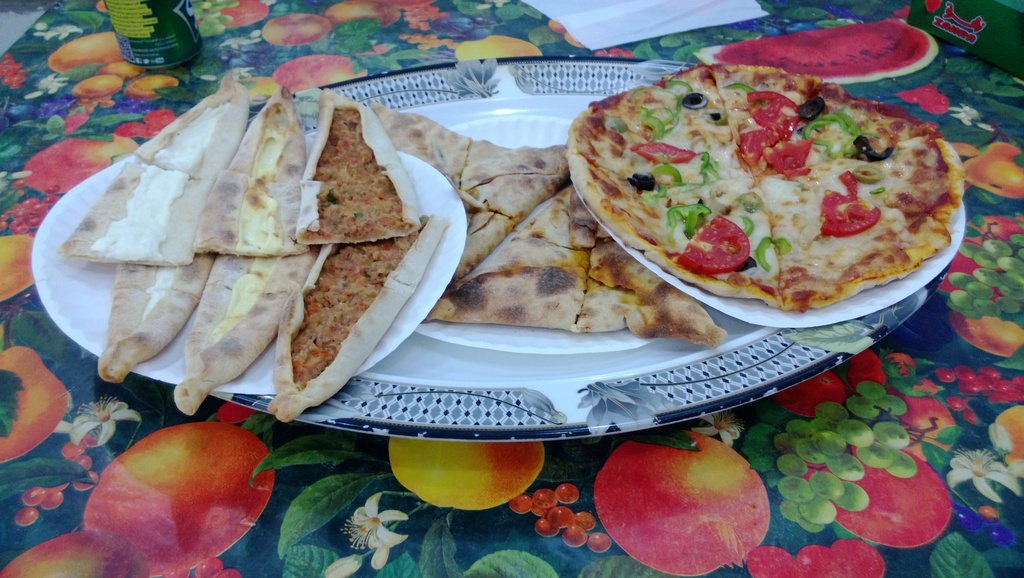Pizza: (565, 64, 960, 320), (374, 105, 731, 346)
